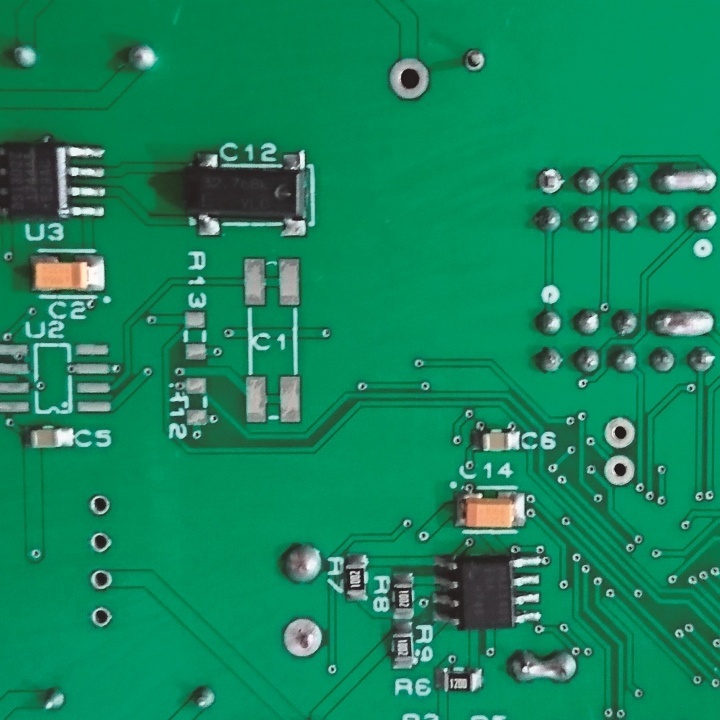F: (386, 54, 433, 105), (279, 615, 325, 660), (602, 452, 639, 489), (602, 414, 638, 452), (533, 164, 562, 196), (460, 44, 487, 75), (87, 529, 113, 555), (87, 566, 113, 592), (90, 603, 114, 628), (87, 495, 113, 516)
P: (507, 649, 582, 687), (648, 307, 720, 342), (648, 163, 720, 197)
